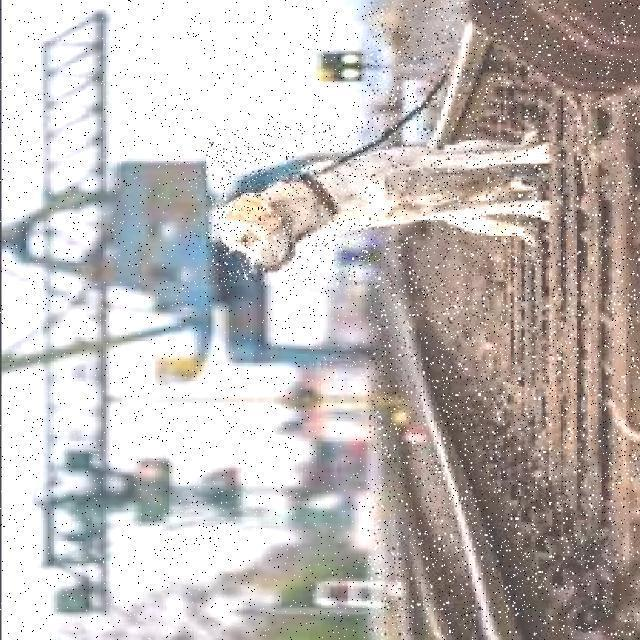danger: (205, 126, 558, 283)
rail: (367, 1, 638, 634)
